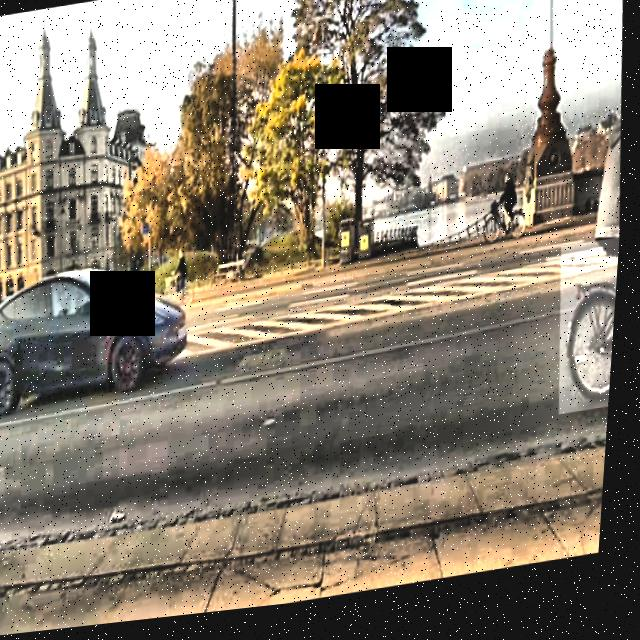bicycle: (557, 252, 624, 429)
